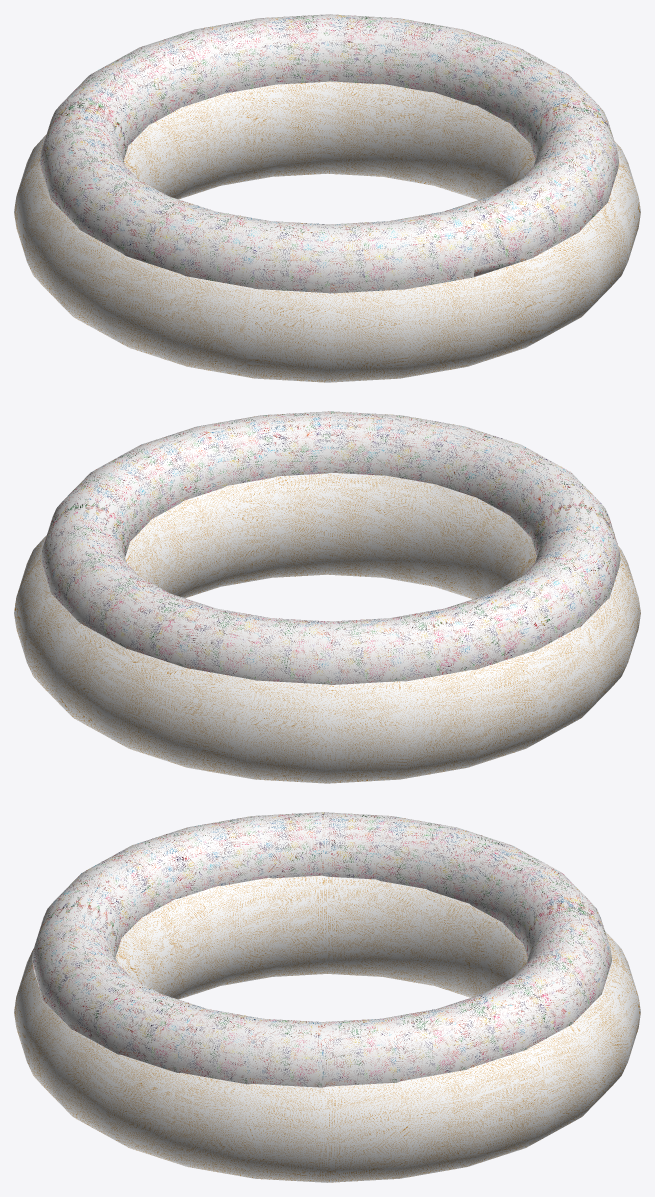
File: sprinkle donut.dae
3 views of the same model, one above another, from view 1: azimuth 30°, elevation 25°; view 2: azimuth 150°, elevation 25°; view 3: azimuth 270°, elevation 25° (orthographic).
Parts seen in each view (by area): view 1: SketchUp_001, SketchUp; view 2: SketchUp_001, SketchUp; view 3: SketchUp_001, SketchUp.
Part boxes in pixels (bbox=[...]): SketchUp_001: bbox=[14, 81, 640, 382]; SketchUp: bbox=[40, 14, 618, 293]; SketchUp_001: bbox=[14, 472, 640, 783]; SketchUp: bbox=[41, 411, 620, 684]; SketchUp_001: bbox=[14, 875, 640, 1182]; SketchUp: bbox=[32, 812, 611, 1087].
Size of the model in its own units: 1 by 1 by 0.2674.
